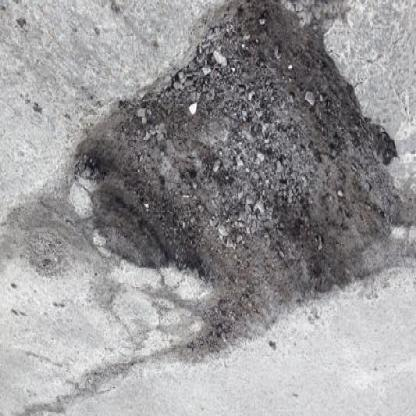pothole: (73, 3, 403, 362)
